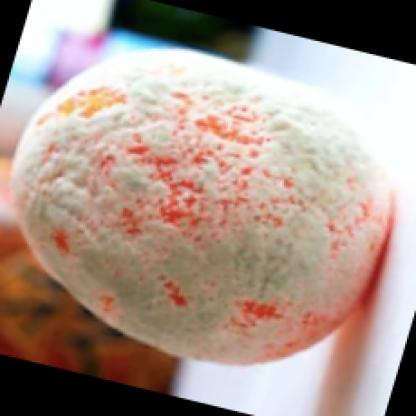rotten: (11, 50, 400, 369)
